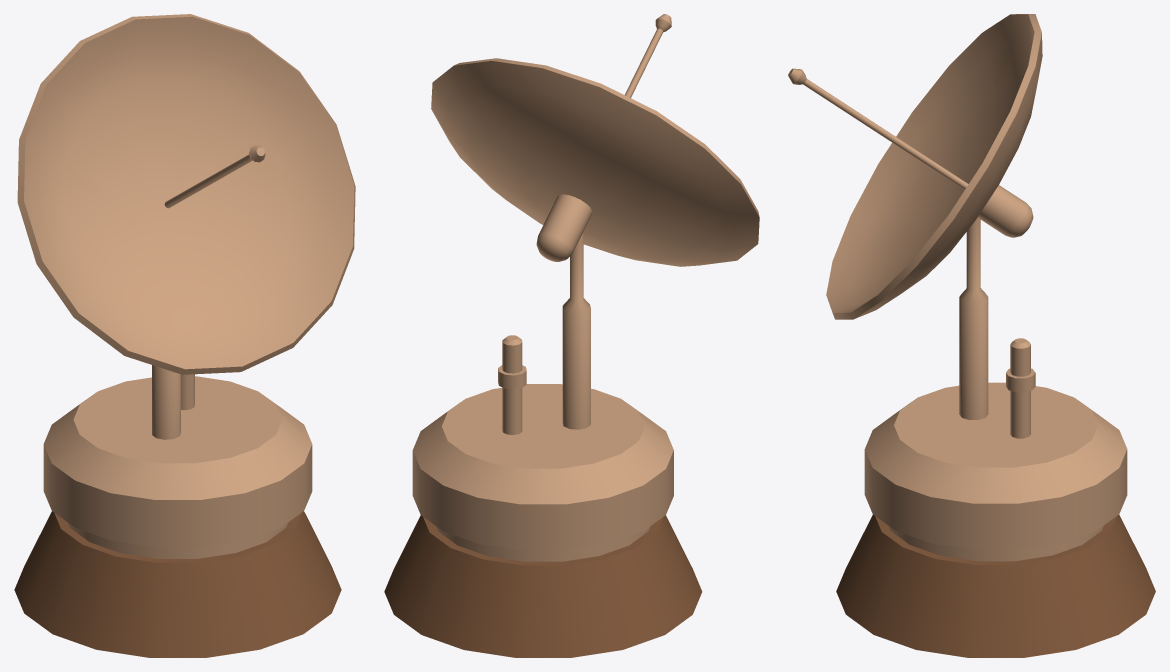
The model's file is roof_radar.glb.
3 views of the same model, side by side, from view 1: azimuth 30°, elevation 25°; view 2: azimuth 150°, elevation 25°; view 3: azimuth 270°, elevation 25° (orthographic). The views are drawn at different scales.
Parts seen in each view (by area): view 1: Roof_Radar; view 2: Roof_Radar; view 3: Roof_Radar.
Part boxes in pixels (box(x1,y1,x2,y2)): Roof_Radar: box(14, 14, 355, 657); Roof_Radar: box(384, 14, 759, 657); Roof_Radar: box(788, 14, 1155, 657).
Size of the model in its own units: 1.63 by 2.71 by 1.65.
1 material, 1 textured.
